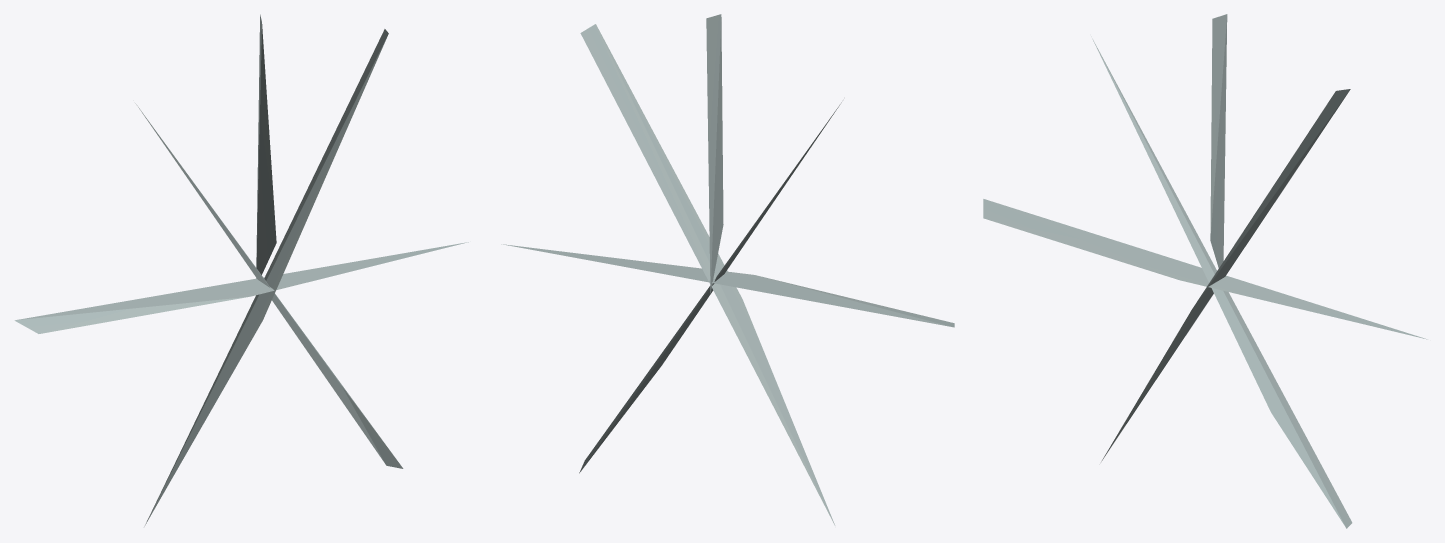
File: pj002-geode.glb
3 views of the same model, side by side, from view 1: azimuth 30°, elevation 25°; view 2: azimuth 150°, elevation 25°; view 3: azimuth 330°, elevation 25° (orthographic).
Visible parts, largest first — view 1: Node; view 2: Node; view 3: Node.
Boxes of the visible parts, box(x1,y1,x2,y2) form: Node: box(14, 14, 468, 526); Node: box(501, 14, 954, 525); Node: box(983, 14, 1427, 528).
Bounding box in the file's own units: 1.47 × 1.49 × 0.1084.
Materials: 1 (1 with a texture image).
